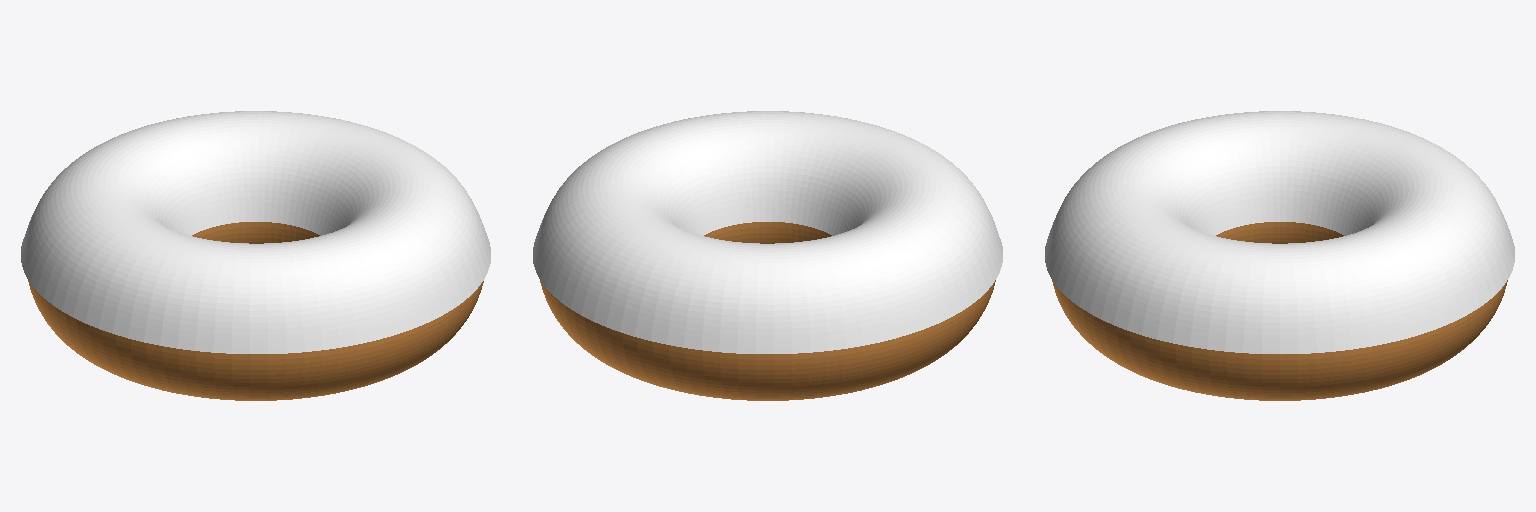
Rendered from Donut4.obj.
3 views of the same model, side by side, from view 1: azimuth 30°, elevation 25°; view 2: azimuth 150°, elevation 25°; view 3: azimuth 270°, elevation 25° (orthographic).
Visible parts, largest first — view 1: mesh03; view 2: mesh03; view 3: mesh03.
Part boxes in pixels (left/top/right/bottom): mesh03: left=21, top=111, right=490, bottom=400; mesh03: left=533, top=111, right=1002, bottom=400; mesh03: left=1045, top=111, right=1514, bottom=400.
Bounding box in the file's own units: 14.06 × 4.76 × 14.05.